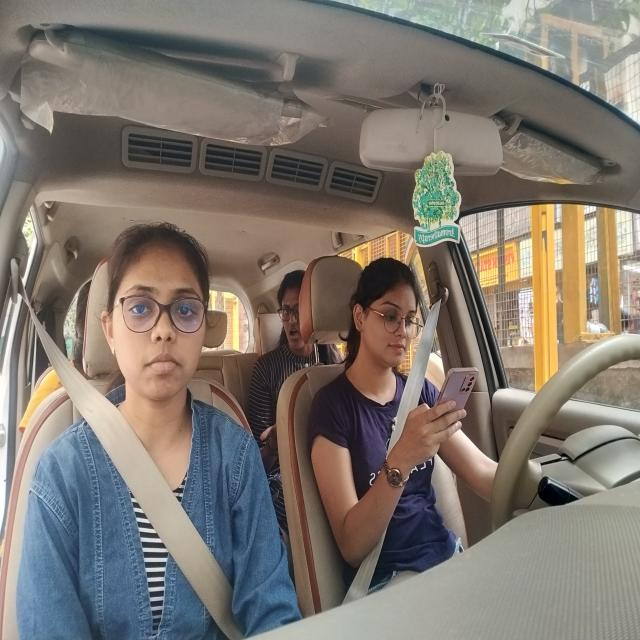mobile: (428, 358, 482, 462)
person: (91, 217, 226, 442), (345, 248, 424, 378), (266, 260, 327, 378)
